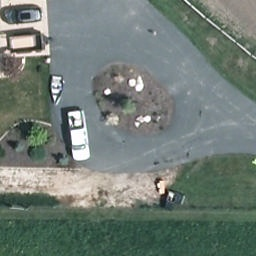car: (0, 7, 43, 25)
pickup: (65, 111, 93, 161)
